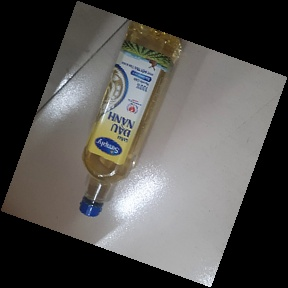Simply: (78, 9, 187, 224)
